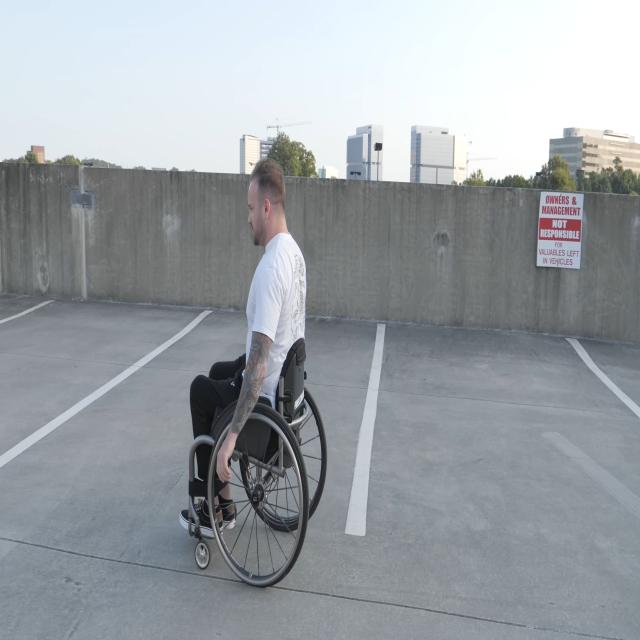wheelchairs: (188, 332, 326, 591)
